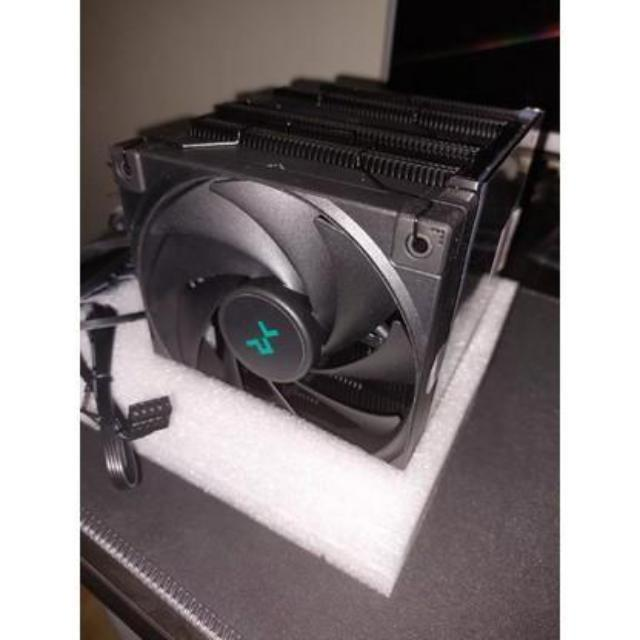CPU_Fan: (105, 74, 542, 478)
